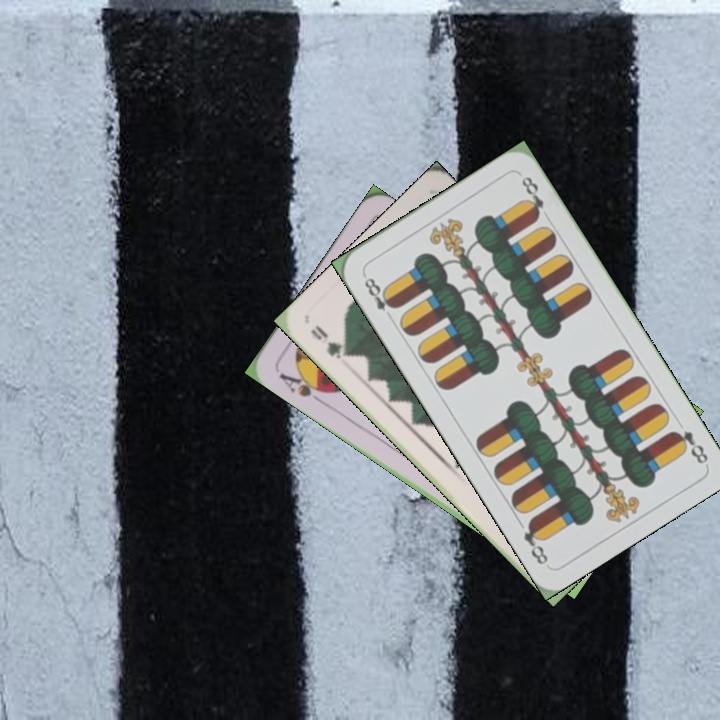E8: (359, 270, 400, 323), (667, 426, 711, 467)
G9: (306, 320, 355, 362)
SA: (275, 366, 332, 407)
